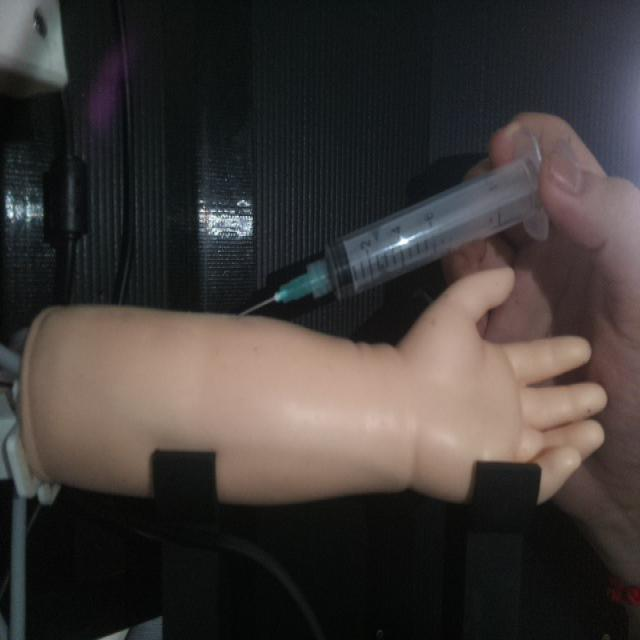Outside: (230, 122, 578, 320)
